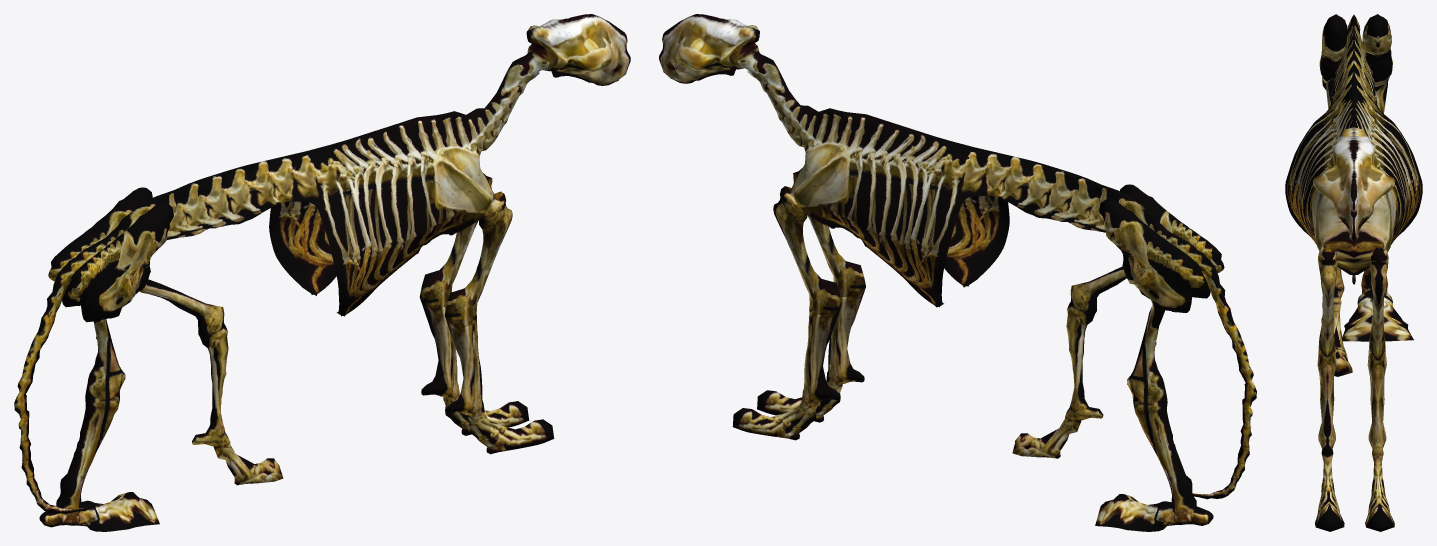
Rendered from BengalTiger.obj.
3 renders of one model, left to right at view 1: azimuth 30°, elevation 25°; view 2: azimuth 150°, elevation 25°; view 3: azimuth 270°, elevation 25°, orthographic. The views are drawn at different scales.
Parts seen in each view (by area): view 1: all_Cube.012; view 2: all_Cube.012; view 3: all_Cube.012.
Boxes of the visible parts, bbox=[...] form: all_Cube.012: bbox=[14, 14, 630, 531]; all_Cube.012: bbox=[659, 14, 1256, 531]; all_Cube.012: bbox=[1285, 14, 1422, 531].
Size of the model in its own units: 12.7 by 7.96 by 2.44.
Materials: 1 (1 with a texture image).
